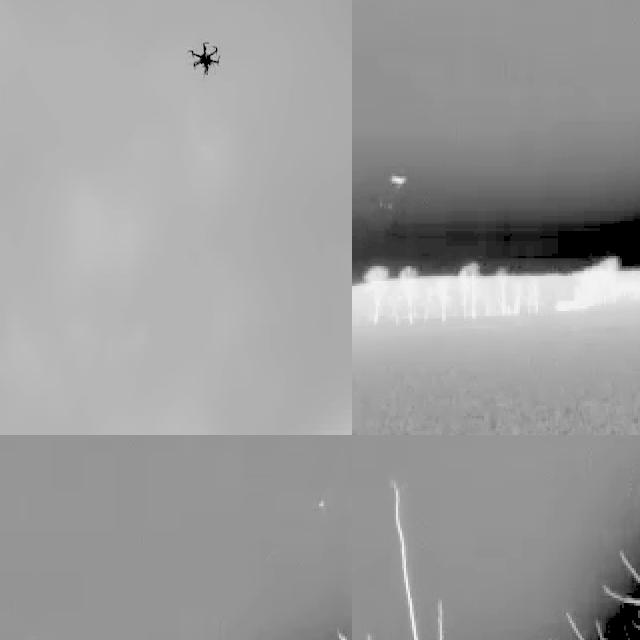0: (311, 491, 329, 521)
1: (376, 166, 416, 204)
drone: (184, 37, 220, 80)
